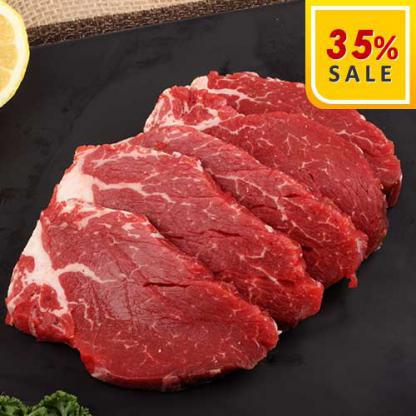beef: (46, 60, 388, 386)
